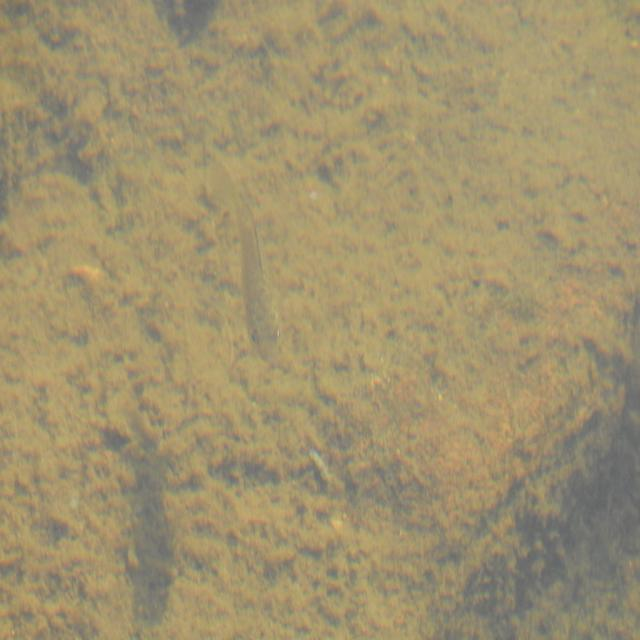Gunes Levregi: (197, 151, 283, 366)
